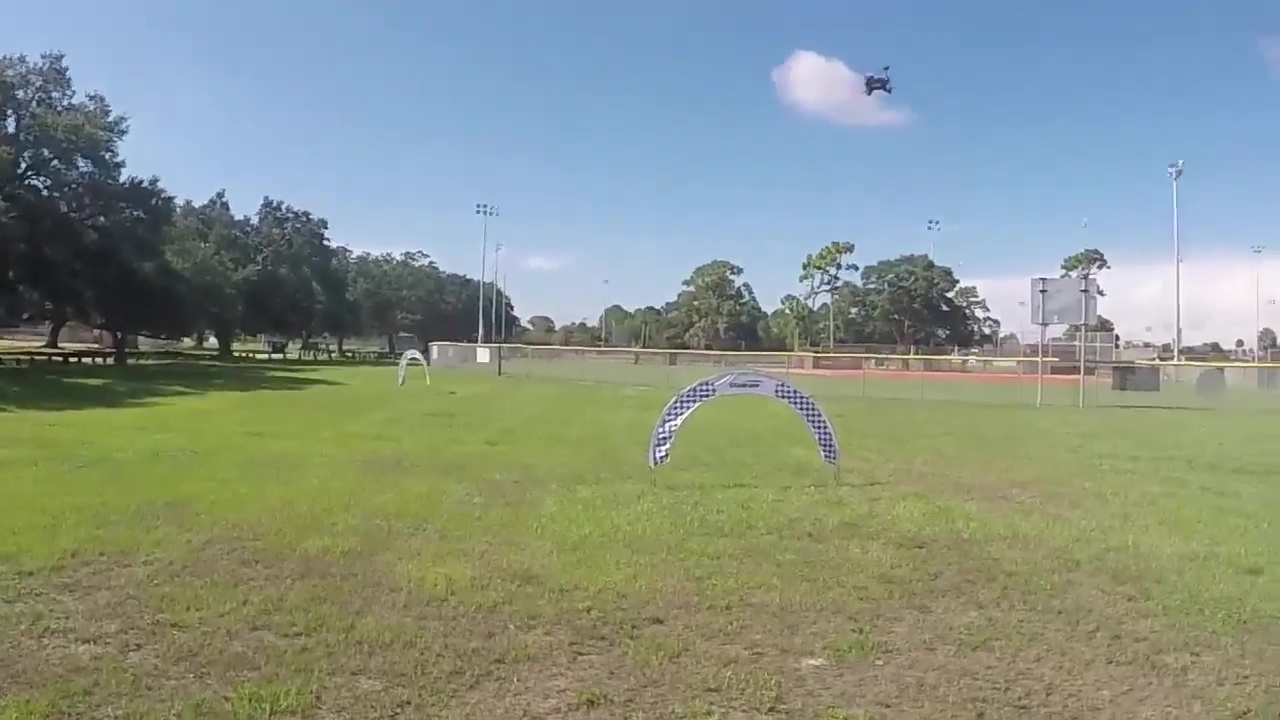gate: (646, 370, 841, 471), (398, 348, 432, 387)
